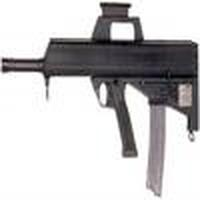gun: (1, 32, 200, 151)
